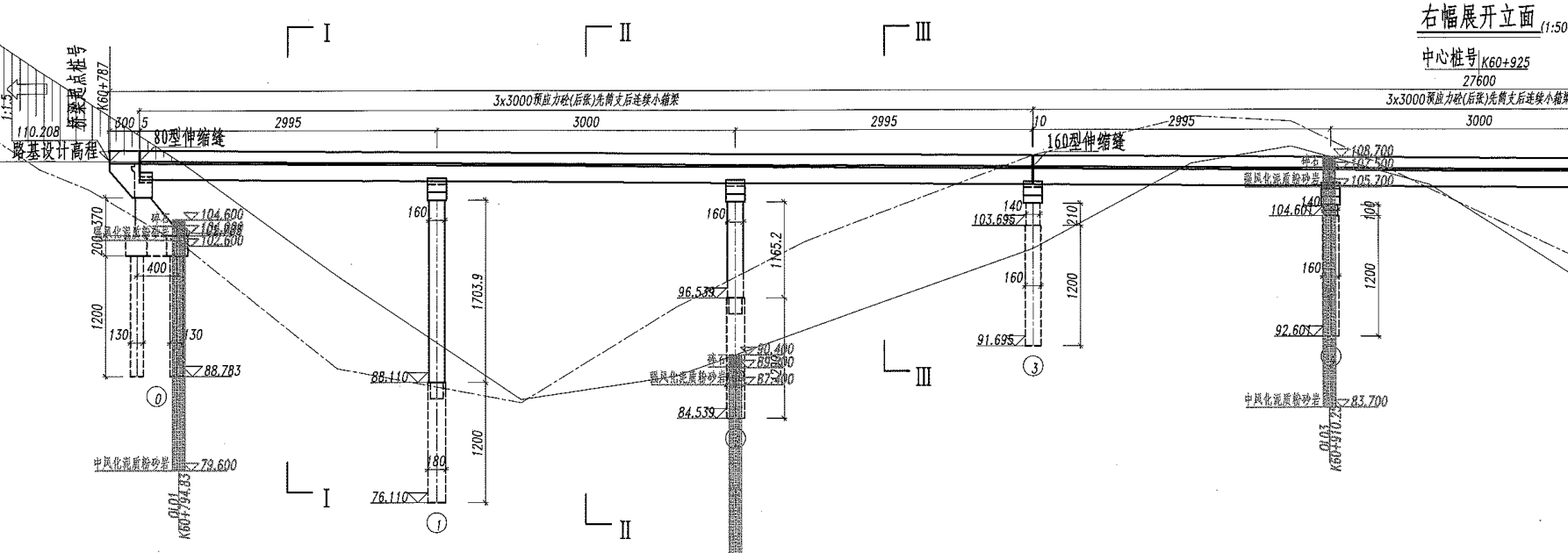A: (105, 72, 1568, 93)
B: (132, 89, 1042, 118)
C: (357, 171, 464, 542), (665, 174, 762, 454), (962, 175, 1055, 384), (1253, 190, 1351, 384)
